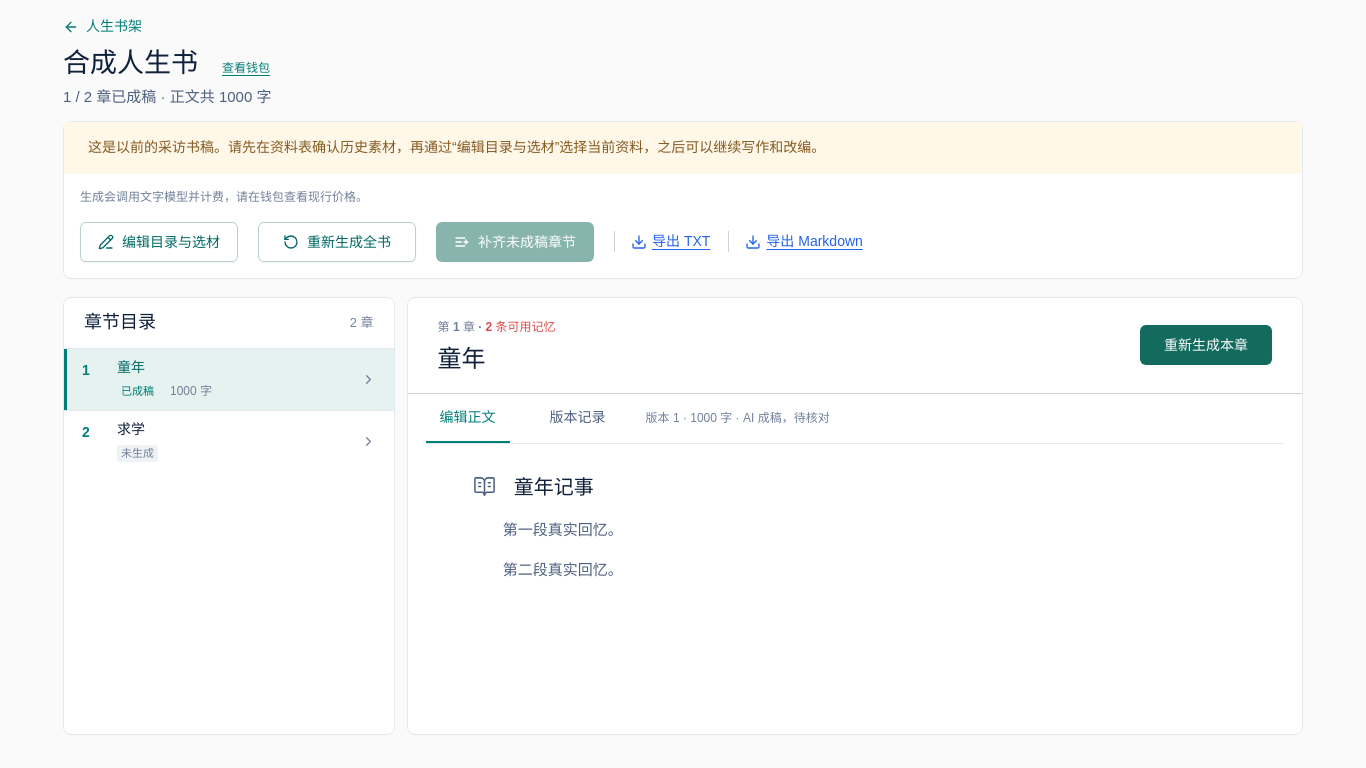
Test: empty chapters point to interviews and cannot generate without sources
Click the button "2 求学 未生成".
click(138, 453)  # box [64, 410, 394, 472]
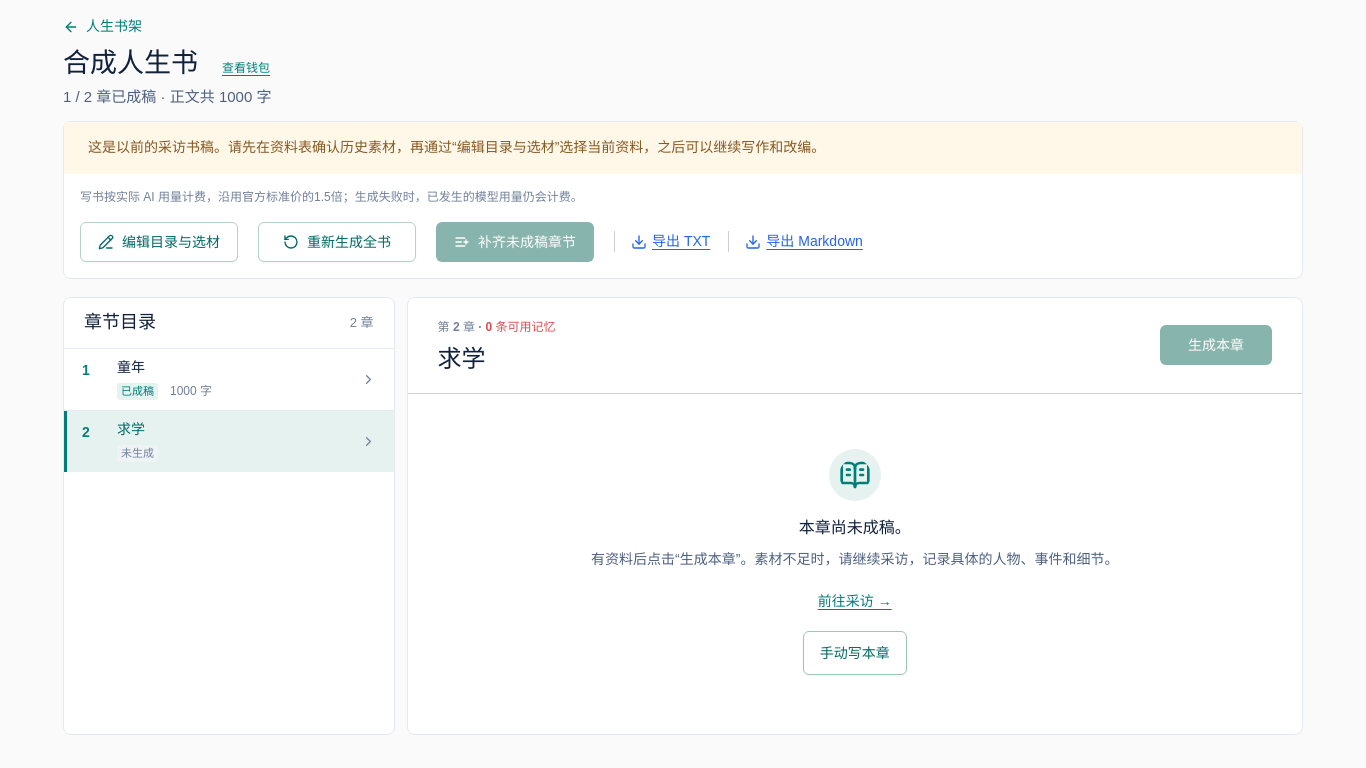
Result: the button "生成本章" is disabled at [1160, 325, 1272, 365]
